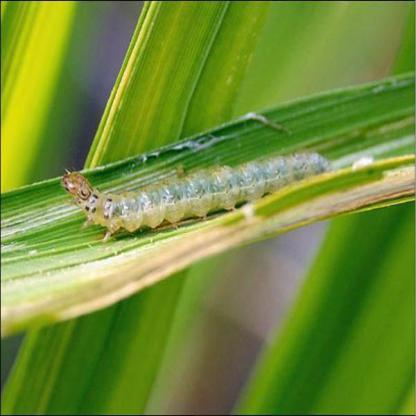leaf-folder: (53, 145, 336, 235)
